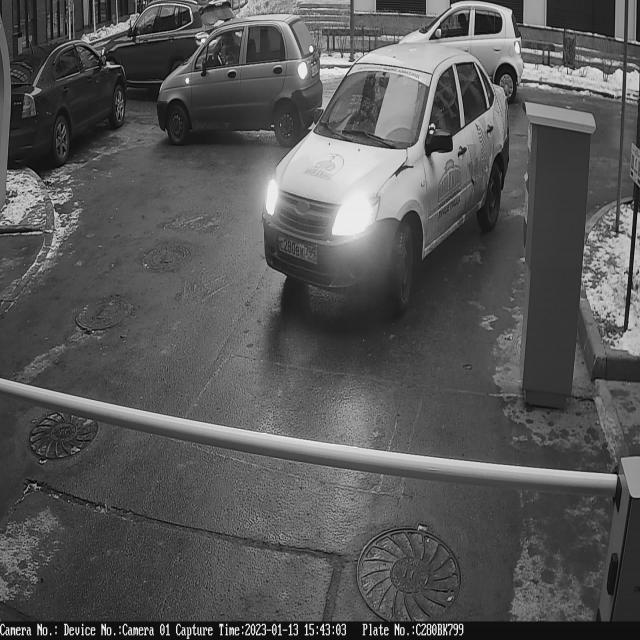car-plate-numbers: (278, 231, 319, 265)
